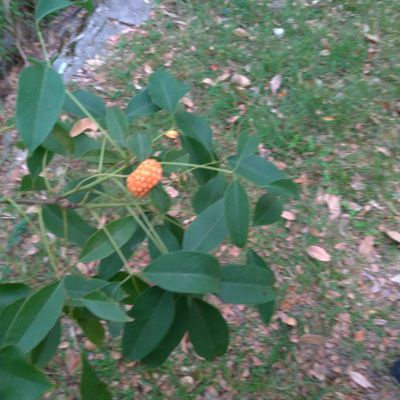eggs: (121, 156, 170, 197)
